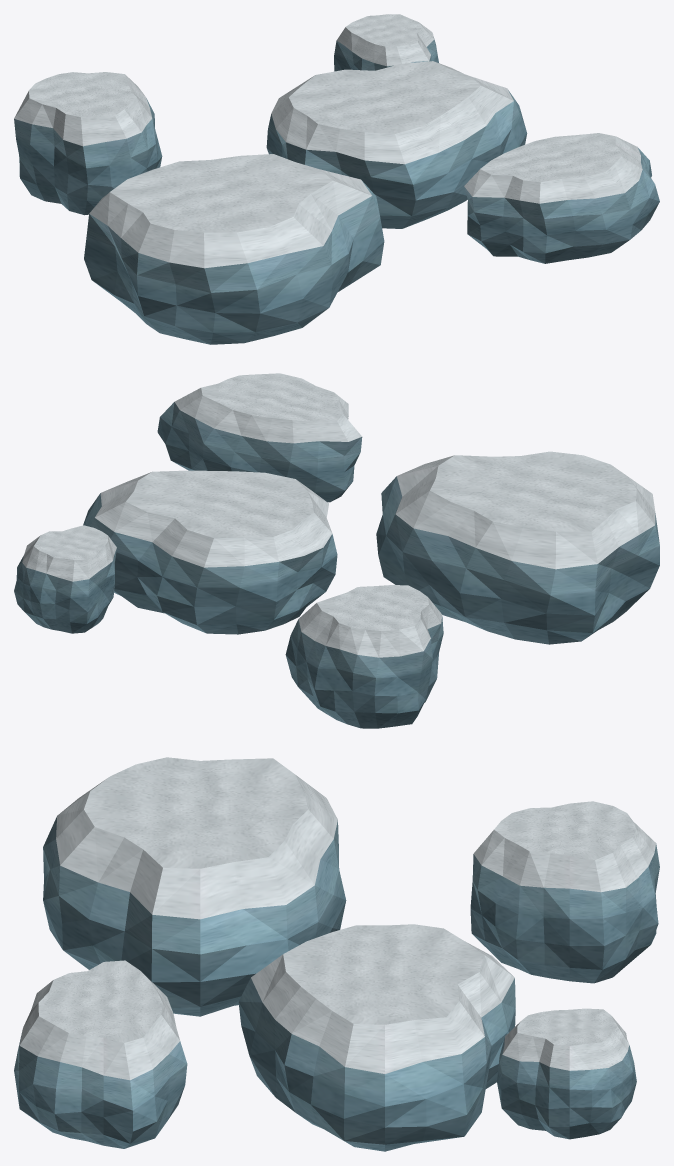
File: ice_floe_small.glb
The picture shows the model from 3 angles, top to bottom: view 1: azimuth 30°, elevation 25°; view 2: azimuth 150°, elevation 25°; view 3: azimuth 270°, elevation 25°; orthographic projection. The views are drawn at different scales.
Visible parts, largest first — view 1: ice_floe_small; view 2: ice_floe_small; view 3: ice_floe_small.
Boxes of the visible parts, x1=… form: ice_floe_small: x1=14, y1=14, x2=659, y2=344; ice_floe_small: x1=14, y1=373, x2=659, y2=728; ice_floe_small: x1=14, y1=757, x2=659, y2=1151.
Bounding box in the file's own units: 1.7 × 0.36 × 1.5.
Materials: 1 (1 with a texture image).
